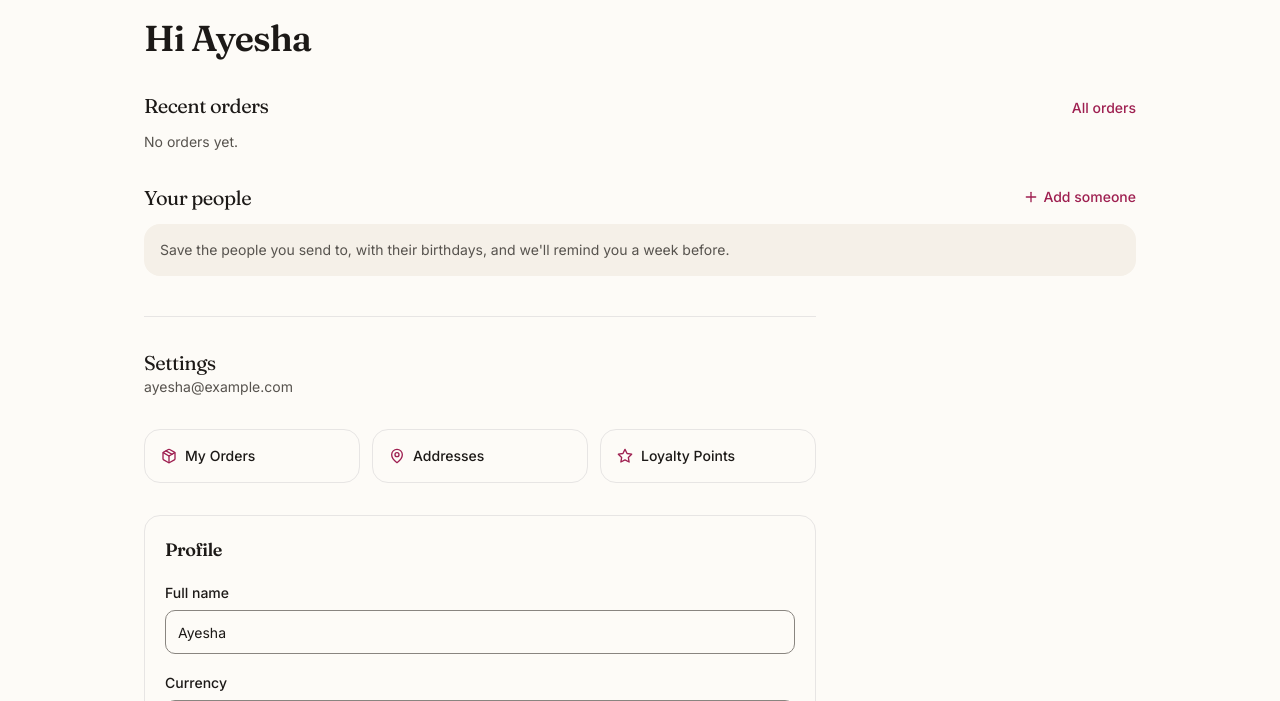
Test case: AccountPage › saves name and currency, then updates the session and display currency
Replace the text in the field labelled "Full name" with "Ayesha Khan" at (480, 632), box [165,610,795,654]
(page scrolled)
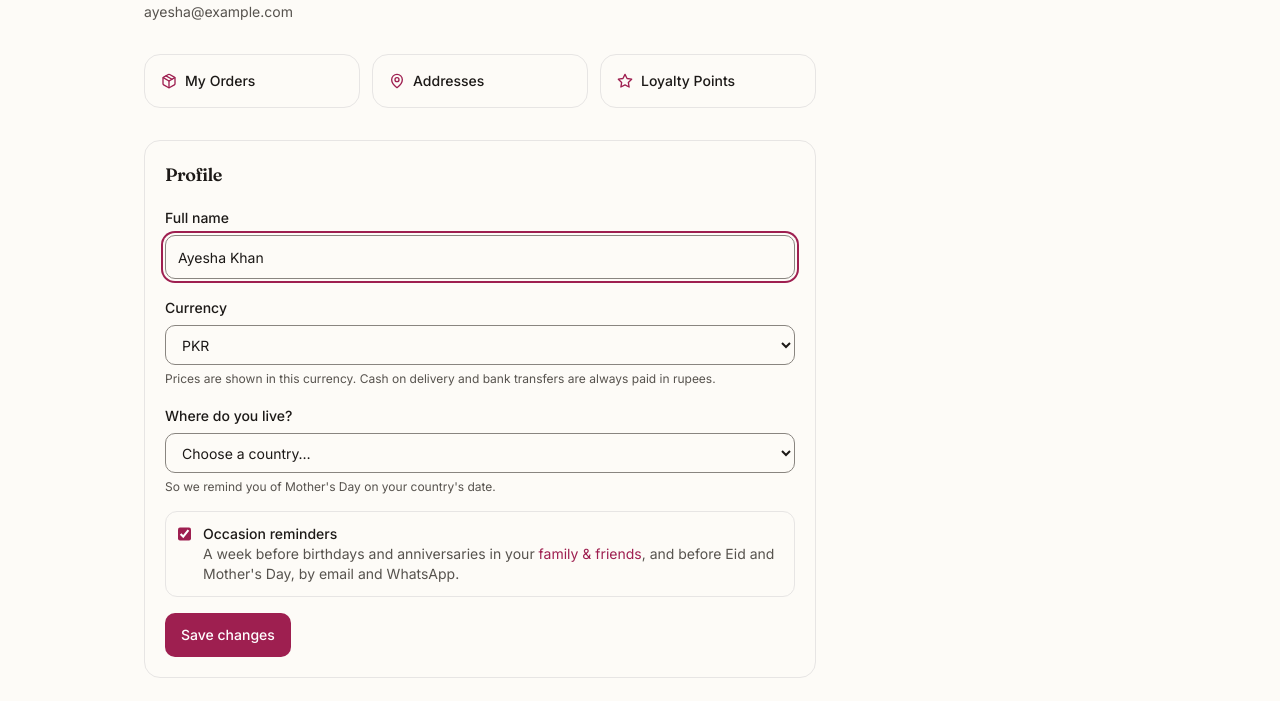
Select "GBP" in the dropdown labelled "Currency" at (480, 345), box [165,325,795,365]
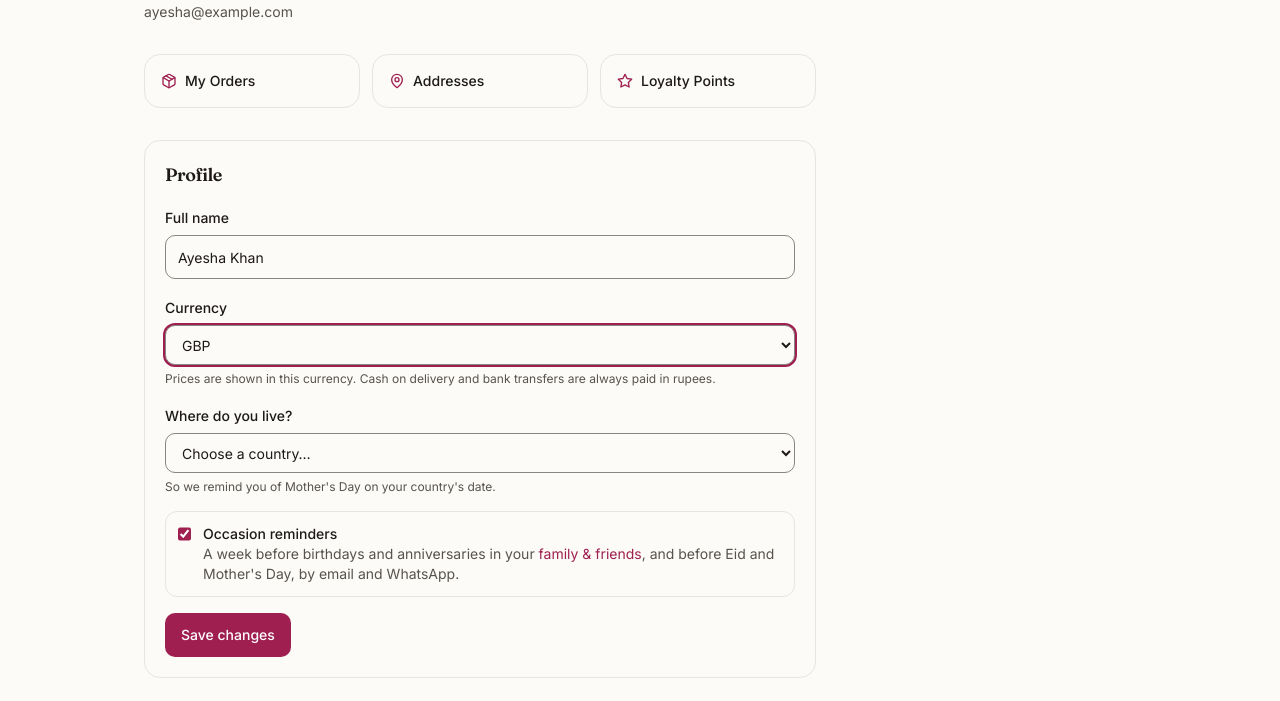
Click the button "Save changes" at (228, 635), box [165,613,291,657]
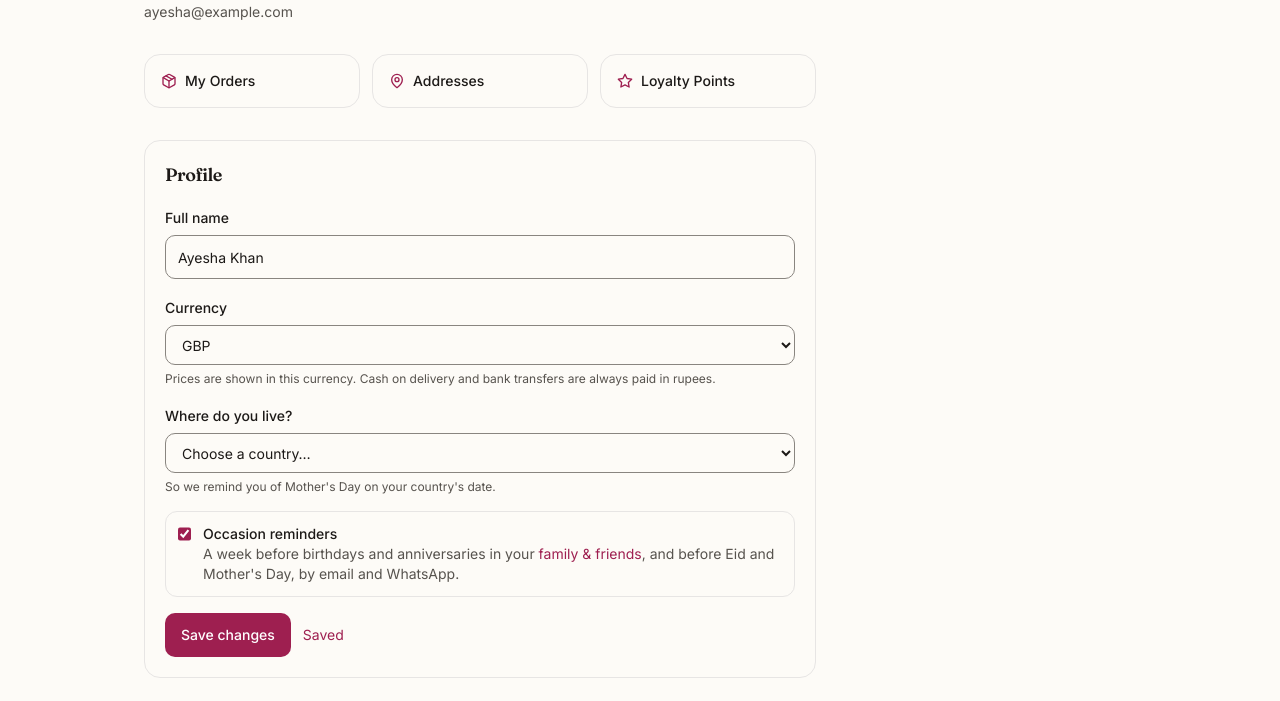
expect the message reads "Saved": met, box [303,626,344,643]
